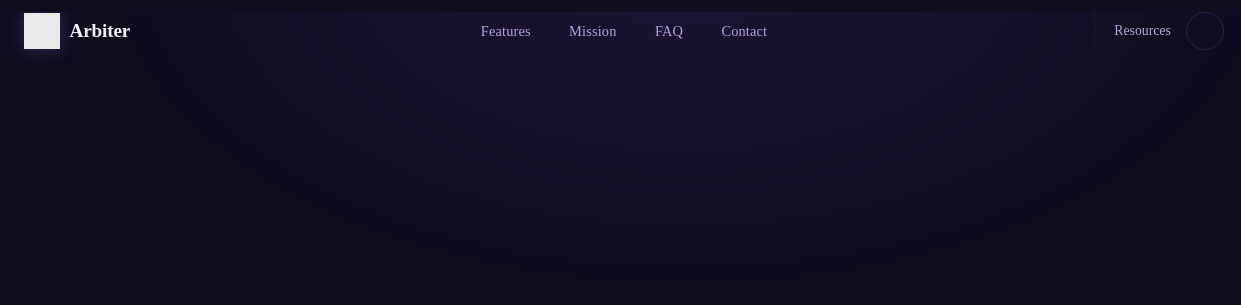
Scenario: Navbar resources menu › groups Docs, Benchmarks, and Blog under Resources
The image size is (1241, 305).
expect the menu item "Docs" is not shown: met
Click the button "Resources" at (1143, 31), box top-left (1111, 12), bottom-right (1174, 50)
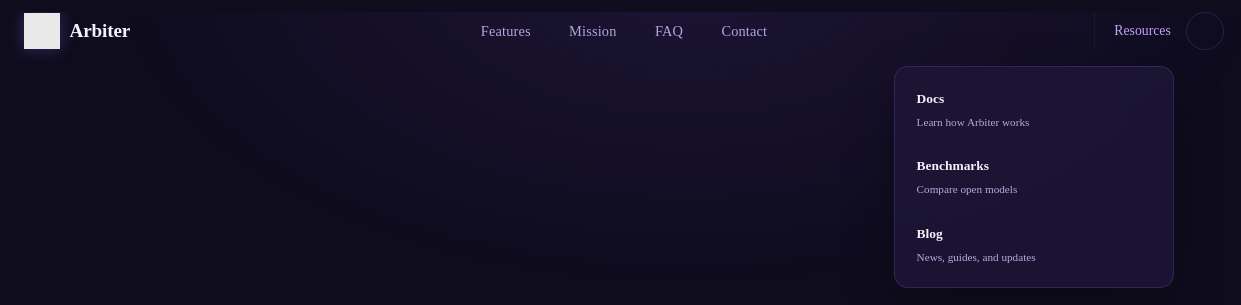
expect the button "Resources" is expanded: met, box top-left (1111, 12), bottom-right (1174, 50)
Press Escape
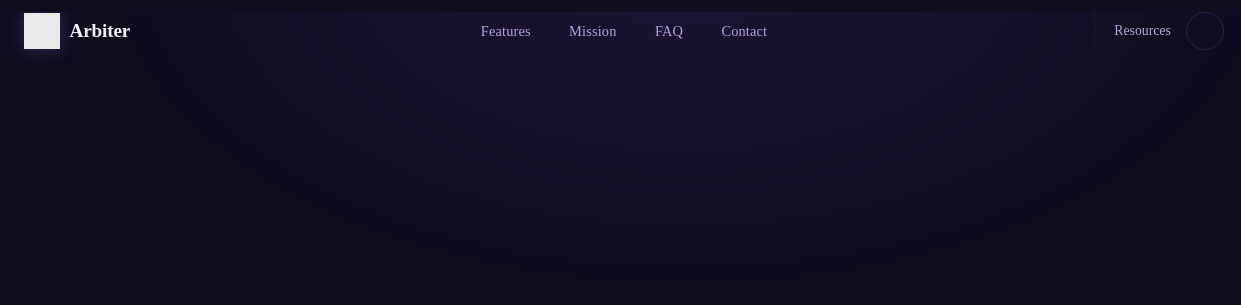
expect the button "Resources" is collapsed: met, box top-left (1111, 12), bottom-right (1174, 50)
